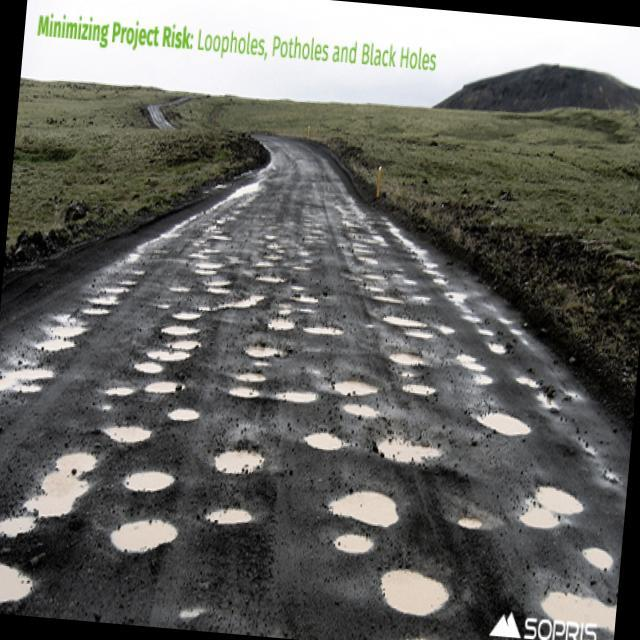Pothole: (0, 439, 108, 560), (102, 504, 181, 582), (527, 576, 618, 640), (330, 478, 421, 532), (516, 474, 580, 546), (372, 574, 452, 625), (0, 354, 62, 411), (444, 281, 496, 345), (468, 410, 534, 460), (191, 496, 264, 540), (33, 308, 94, 360), (203, 432, 266, 479), (368, 434, 440, 468), (0, 566, 50, 613), (199, 288, 270, 321), (330, 369, 392, 406), (508, 369, 554, 418), (575, 540, 620, 583), (274, 387, 320, 428), (240, 338, 291, 374), (124, 475, 186, 504), (102, 255, 137, 305), (344, 398, 384, 440), (224, 348, 268, 386), (459, 349, 496, 392), (298, 424, 342, 459), (386, 340, 432, 372), (106, 423, 159, 450), (328, 529, 370, 563), (142, 344, 198, 369), (304, 318, 348, 347), (153, 404, 205, 428), (124, 359, 169, 386), (472, 320, 504, 354), (255, 312, 298, 335), (293, 292, 326, 318), (452, 513, 484, 537), (433, 320, 458, 350), (408, 284, 436, 310), (389, 268, 422, 290), (406, 324, 440, 345), (77, 301, 117, 318), (219, 385, 261, 401), (478, 336, 504, 360), (172, 339, 204, 358), (398, 384, 438, 399), (170, 308, 202, 326), (163, 324, 201, 338), (363, 287, 397, 300), (391, 314, 424, 326), (358, 254, 387, 266), (393, 635, 461, 640), (364, 264, 386, 278)
